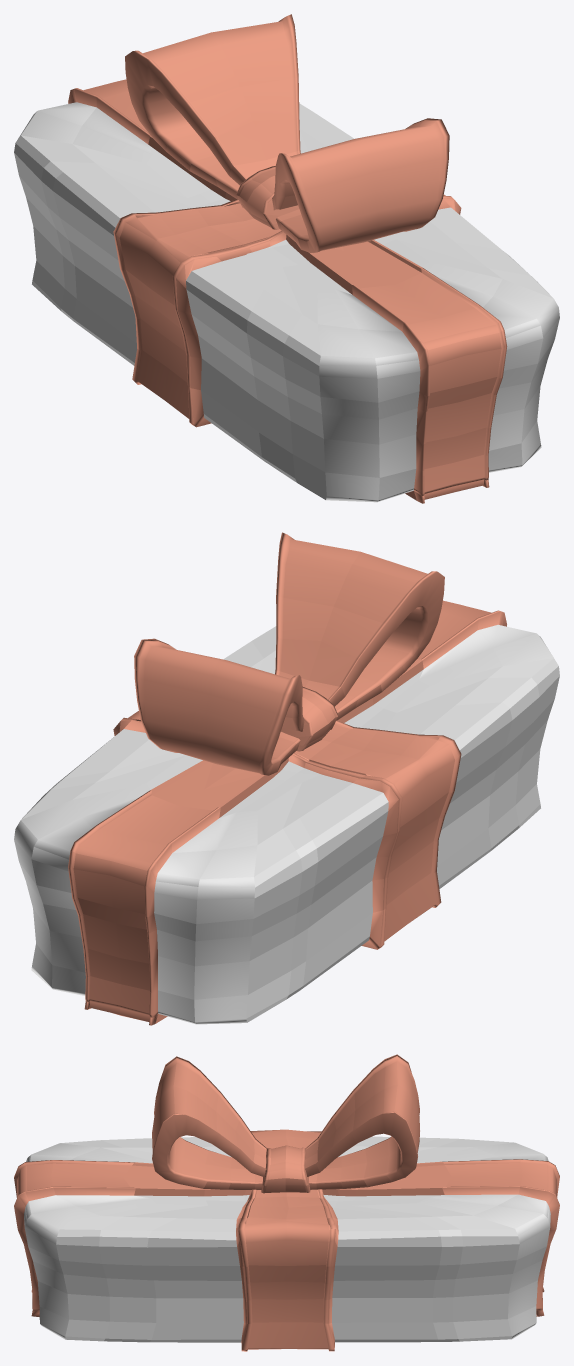
Rendered from Package_long.fbx.
3 views of the same model, one above another, from view 1: azimuth 30°, elevation 25°; view 2: azimuth 150°, elevation 25°; view 3: azimuth 270°, elevation 25° (orthographic). The views are drawn at different scales.
Visible parts, largest first — view 1: Package_long; view 2: Package_long; view 3: Package_long.
Boxes of the visible parts, <box> form: Package_long: <box>14,14,559,503</box>; Package_long: <box>14,532,559,1025</box>; Package_long: <box>14,1054,559,1351</box>.
Bounding box in the file's own units: 250 × 244 × 543.
